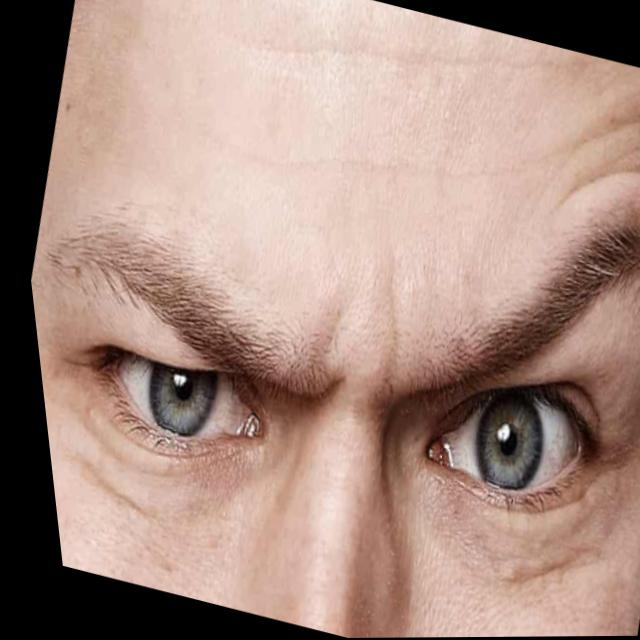Wrinkles: (207, 109, 640, 224), (242, 31, 542, 72)
